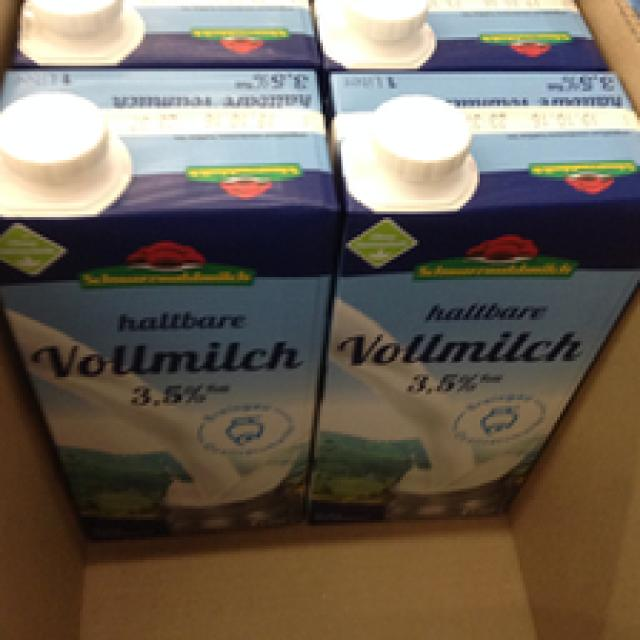groceries: (0, 66, 329, 557), (303, 71, 637, 532)
